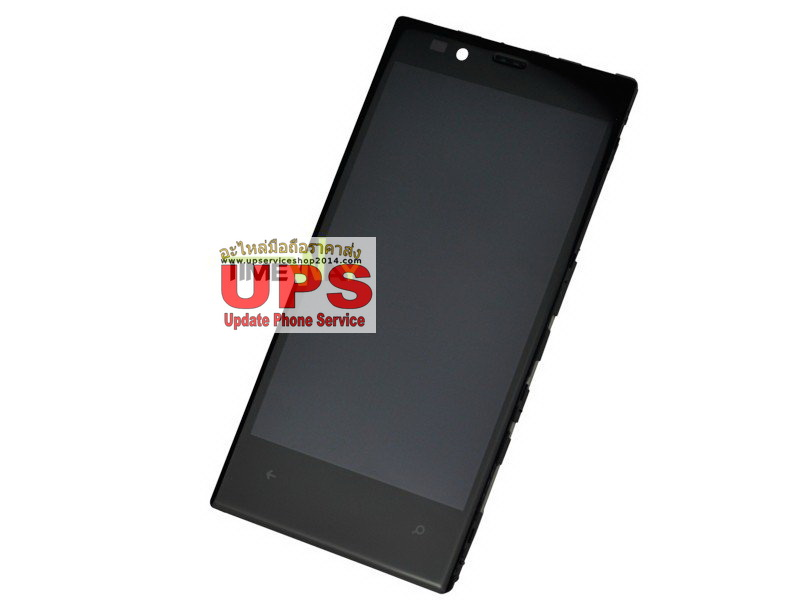Phone: (206, 10, 644, 600)
